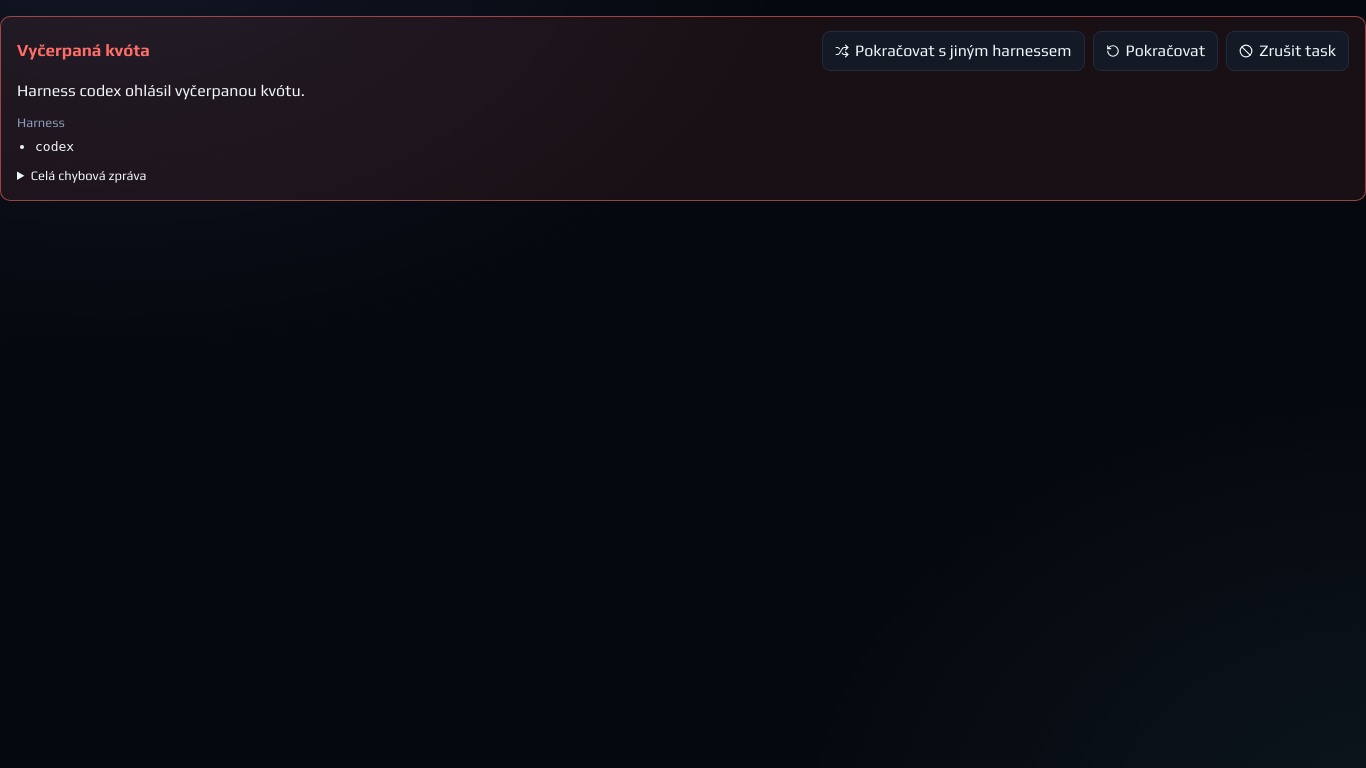
FailureCard › quota without another tested harness says so
Click the button with test id "switch-harness" at (953, 51), box [822, 31, 1084, 71]
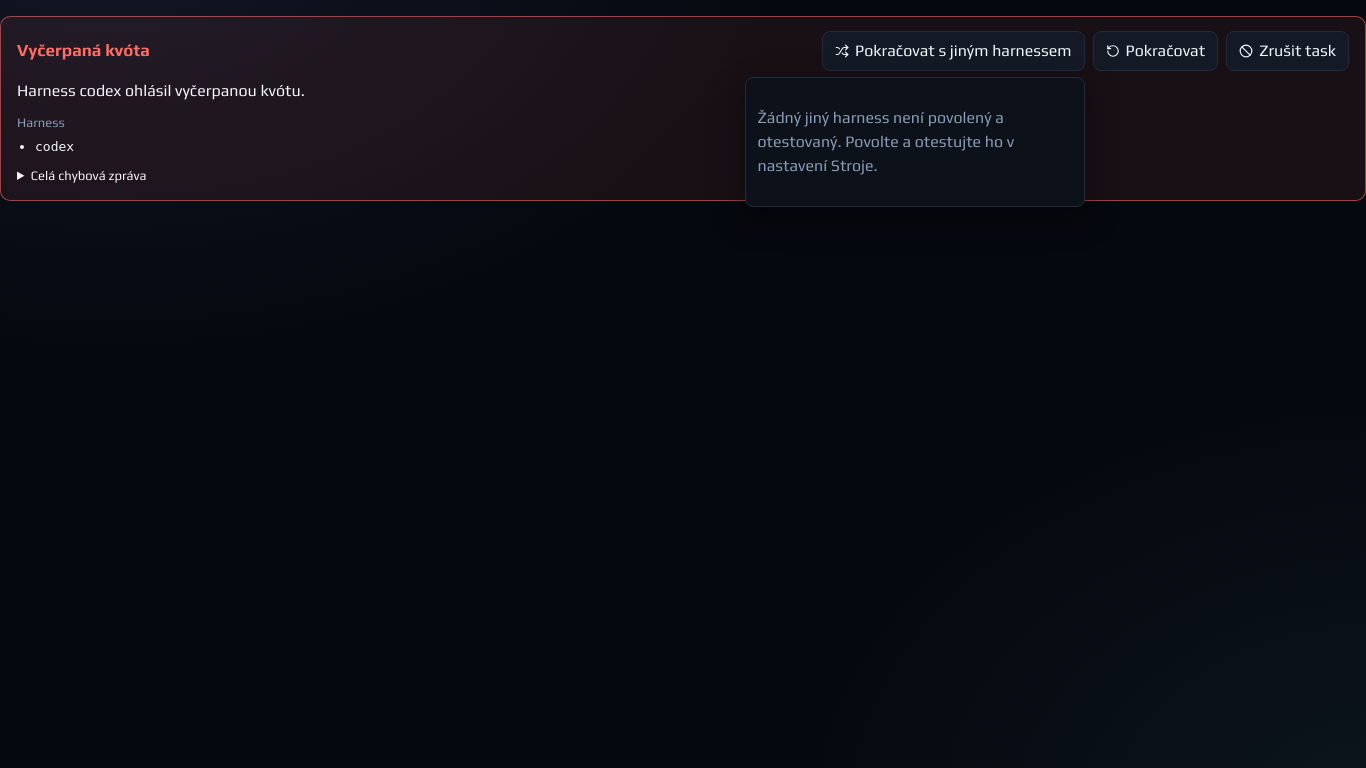
Now the text with test id "switch-none" shows "Žádný jiný harness", box [758, 108, 1014, 175]
